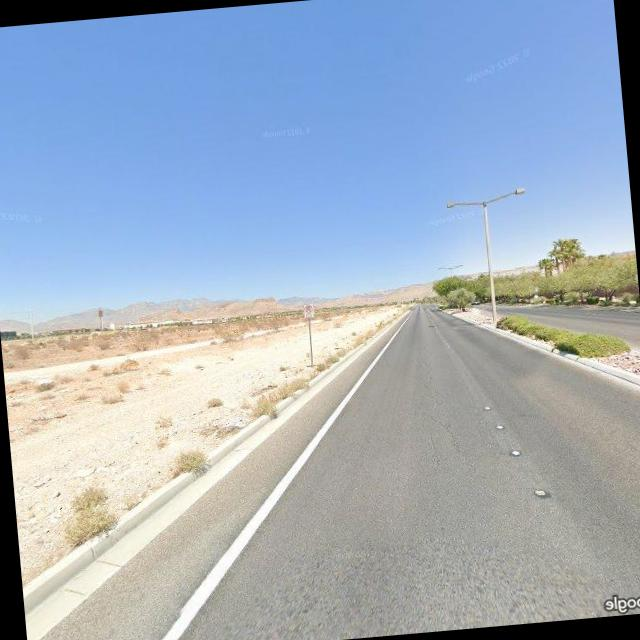pothole: (422, 353, 466, 459)
